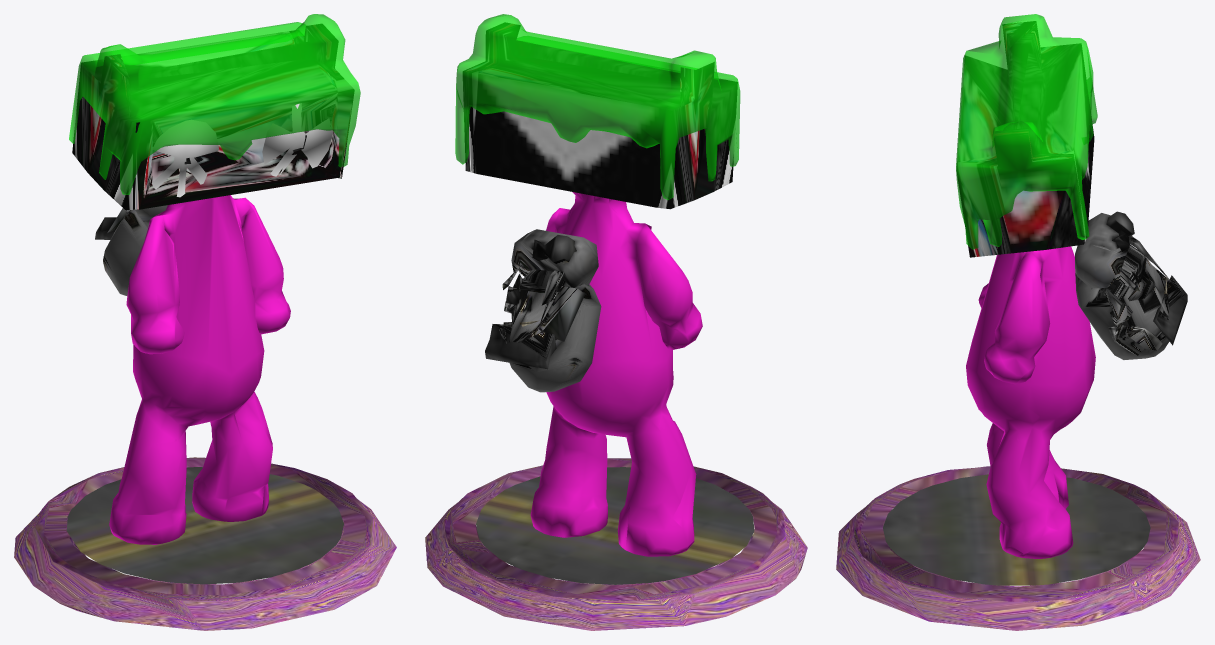
3 views of the same model, side by side, from view 1: azimuth 30°, elevation 25°; view 2: azimuth 150°, elevation 25°; view 3: azimuth 270°, elevation 25° (orthographic). The views are drawn at different scales.
Bounding box in the file's own units: 1.45 × 2.16 × 1.43.
8 materials, 4 textured.
